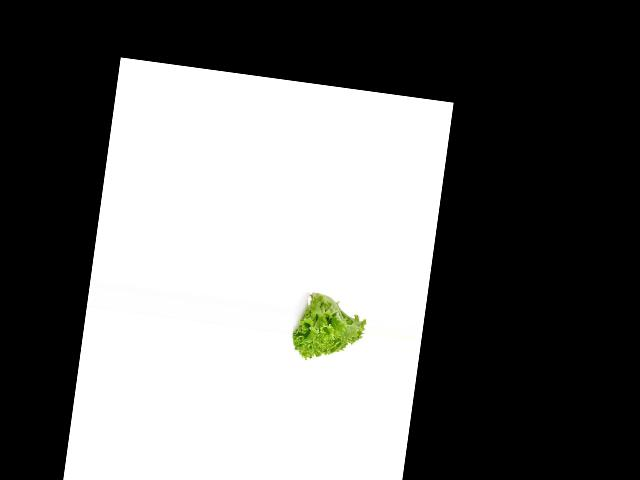lettuce: (289, 285, 372, 371)
